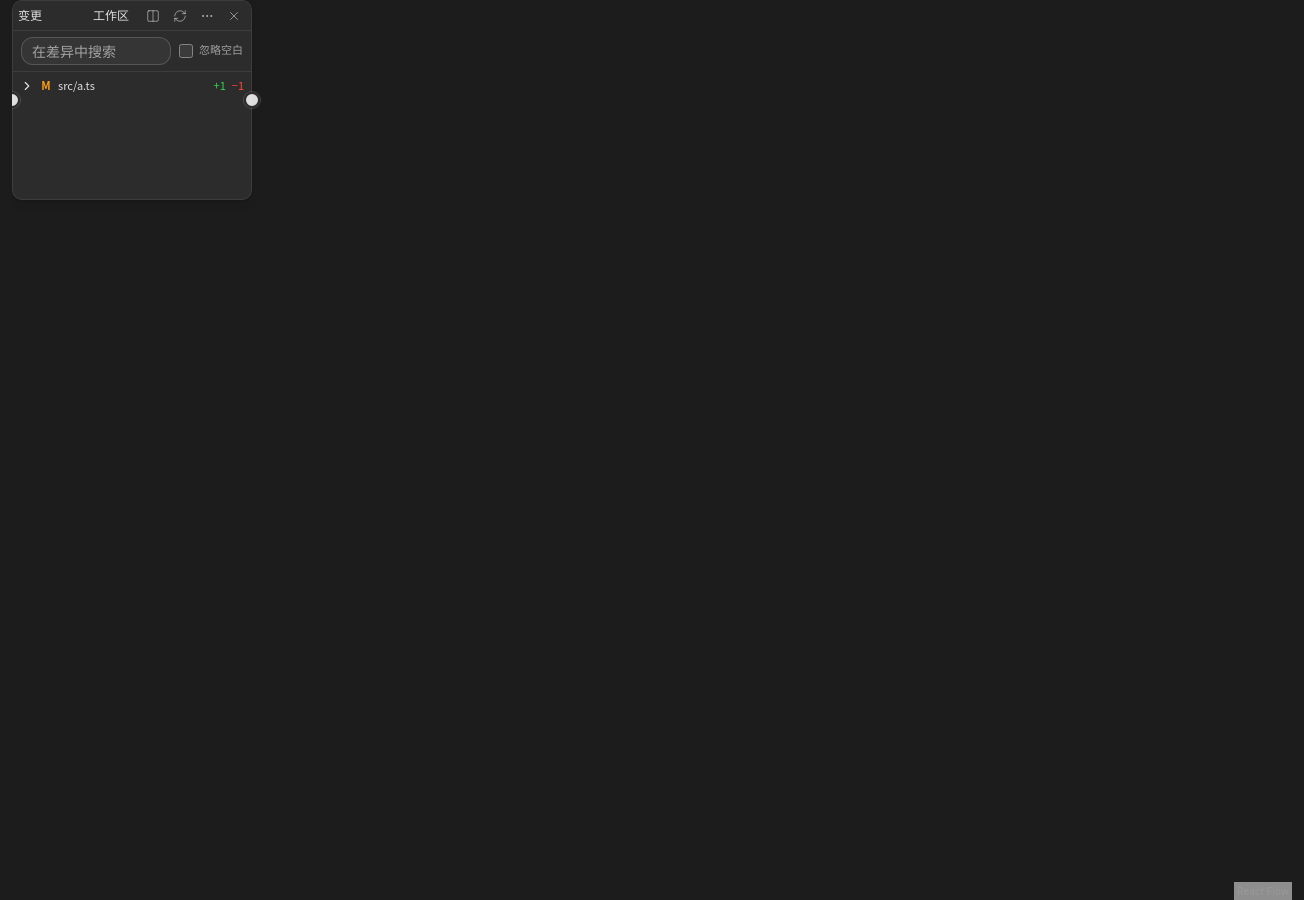
renders the same patch unified or side by side without re-reading it
The image size is (1304, 900).
Click the button "M src/a.ts +1 −1". click: [132, 86]
box: top-left (13, 72), bottom-right (251, 100)
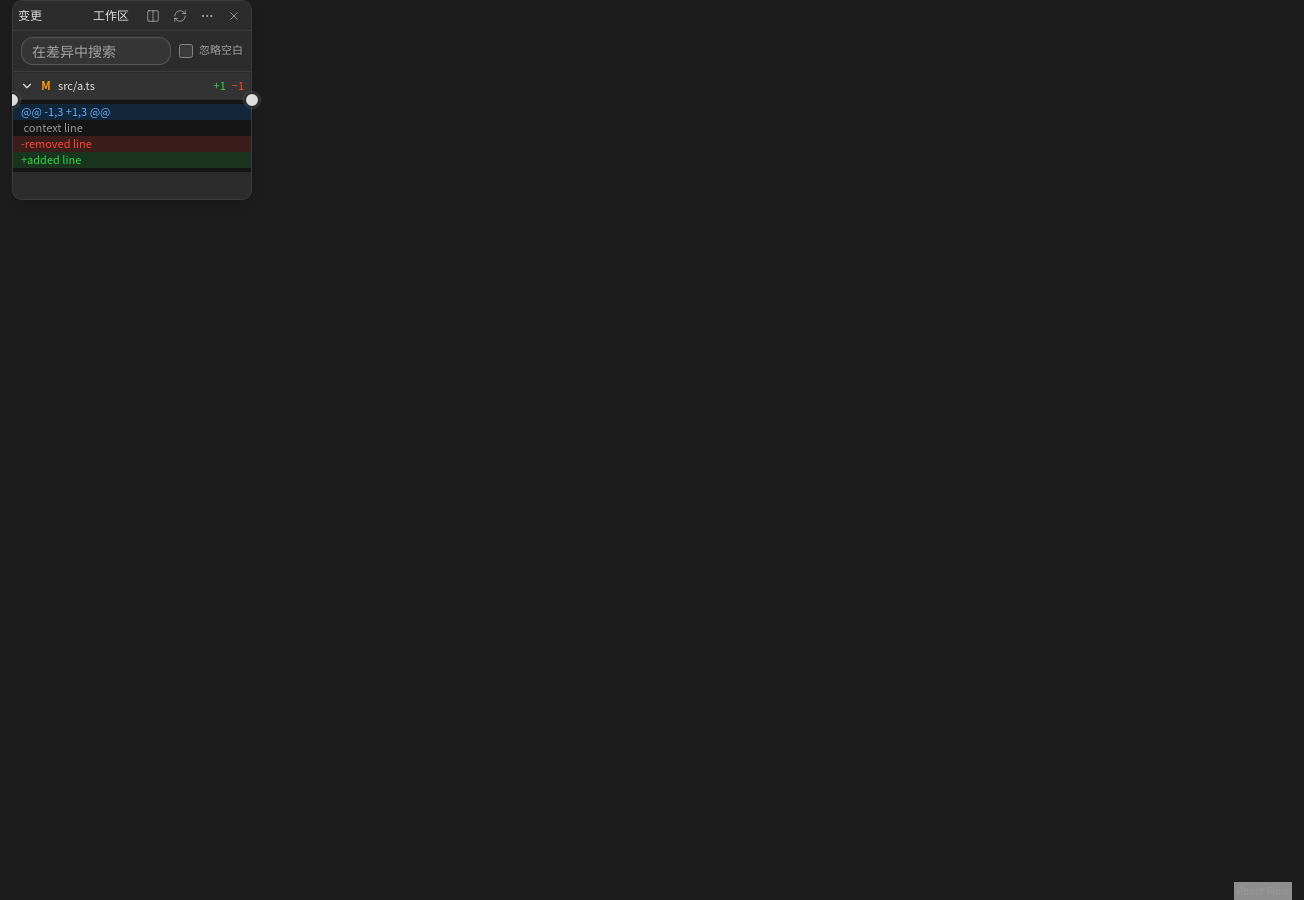
expect the text "-removed line" is shown: met, box top-left (13, 136), bottom-right (251, 152)
Click the button named "并排显示". click: [153, 16]
box: top-left (141, 4), bottom-right (165, 28)
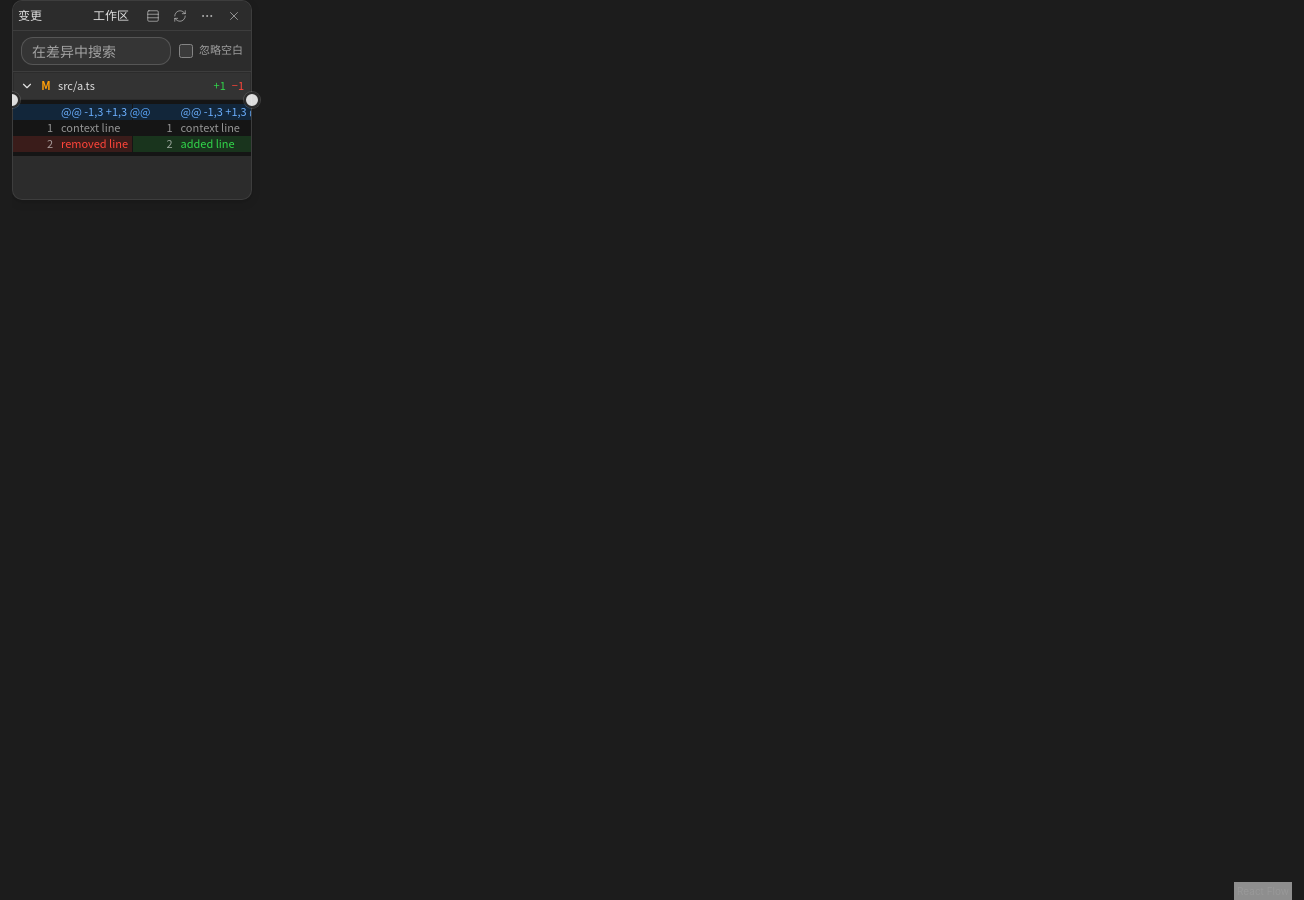
expect the text "removed line" is shown: met, box top-left (61, 136), bottom-right (124, 152)
expect the text "added line" is shown: met, box top-left (180, 136), bottom-right (235, 152)
expect the text "-removed line" is gone: met
